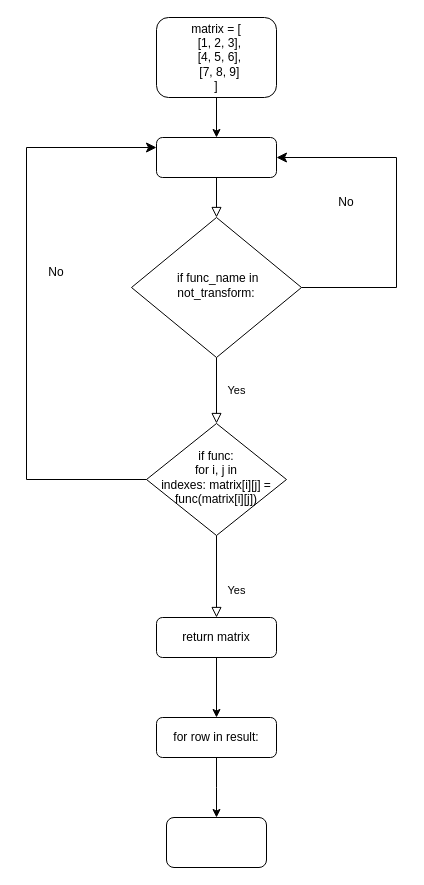
Image size: 424x885. Some labels were removed from this diagram. The shapes that lost their labels are listed below. From the top down, each one's box as (x1, y1, x2, y2) in pixels, then its label:
(156, 136, 276, 178): for condition in conditions:
(166, 816, 266, 868): print(row)
